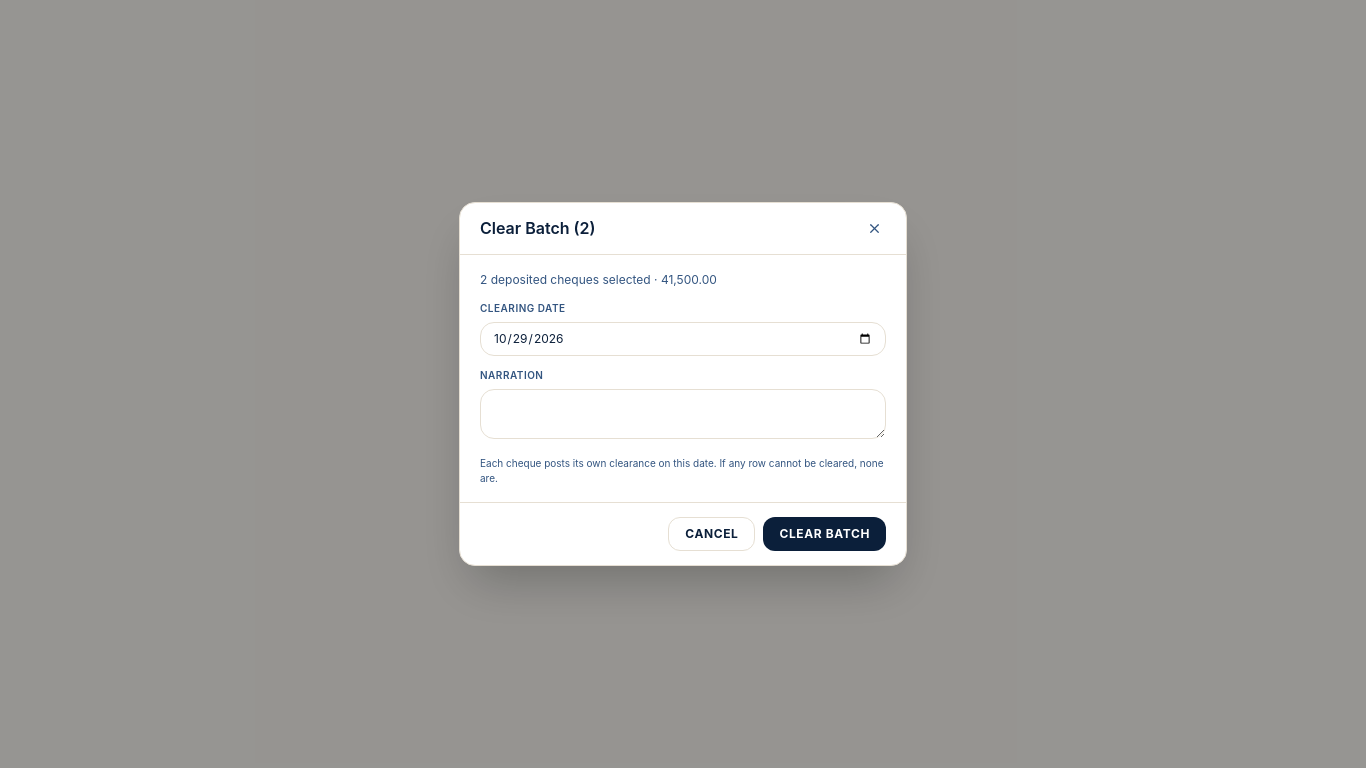
Scenario: ClearBatchDialog › shows the server's refusal verbatim and stays open
The image size is (1366, 768).
Click the button with test id "clear-batch-confirm" at (825, 534), box [764, 517, 886, 551]
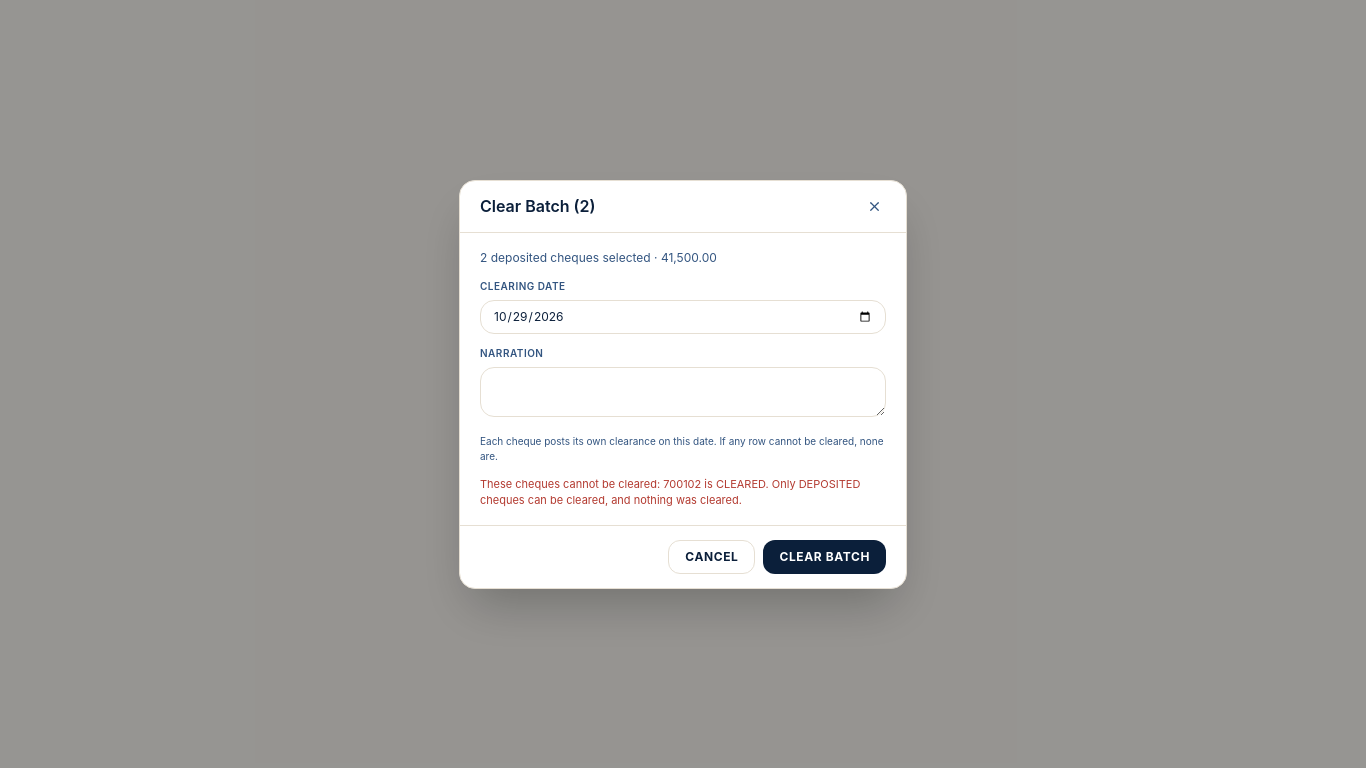
Check: the text with test id "clear-batch-error" shows "700102 is CLEARED", box [480, 476, 860, 507]
